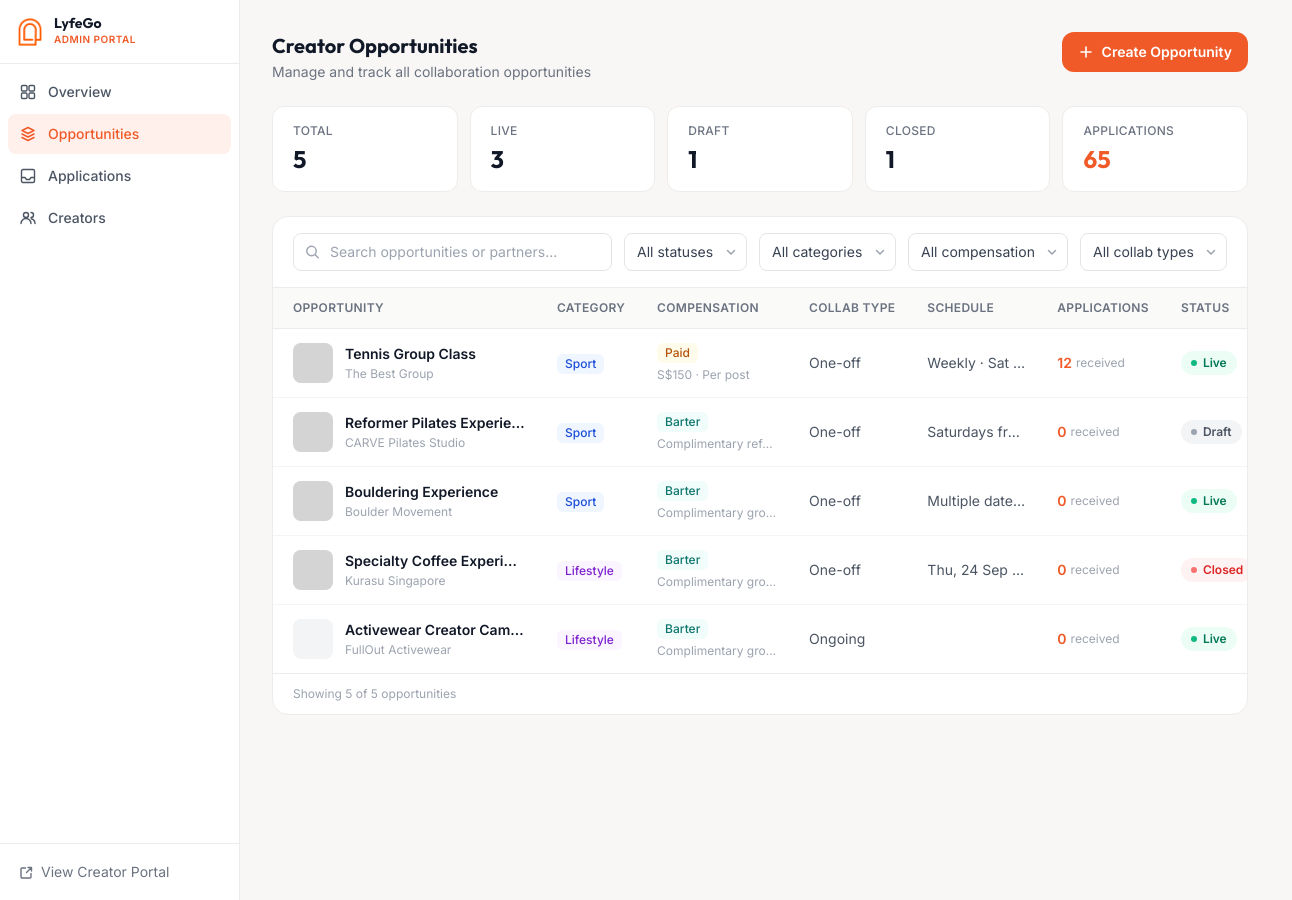
Test case: Admin Opportunities list › filters by status and compensation
Select "Draft" in the dropdown named "Status" at (686, 252), box top-left (624, 233), bottom-right (747, 271)
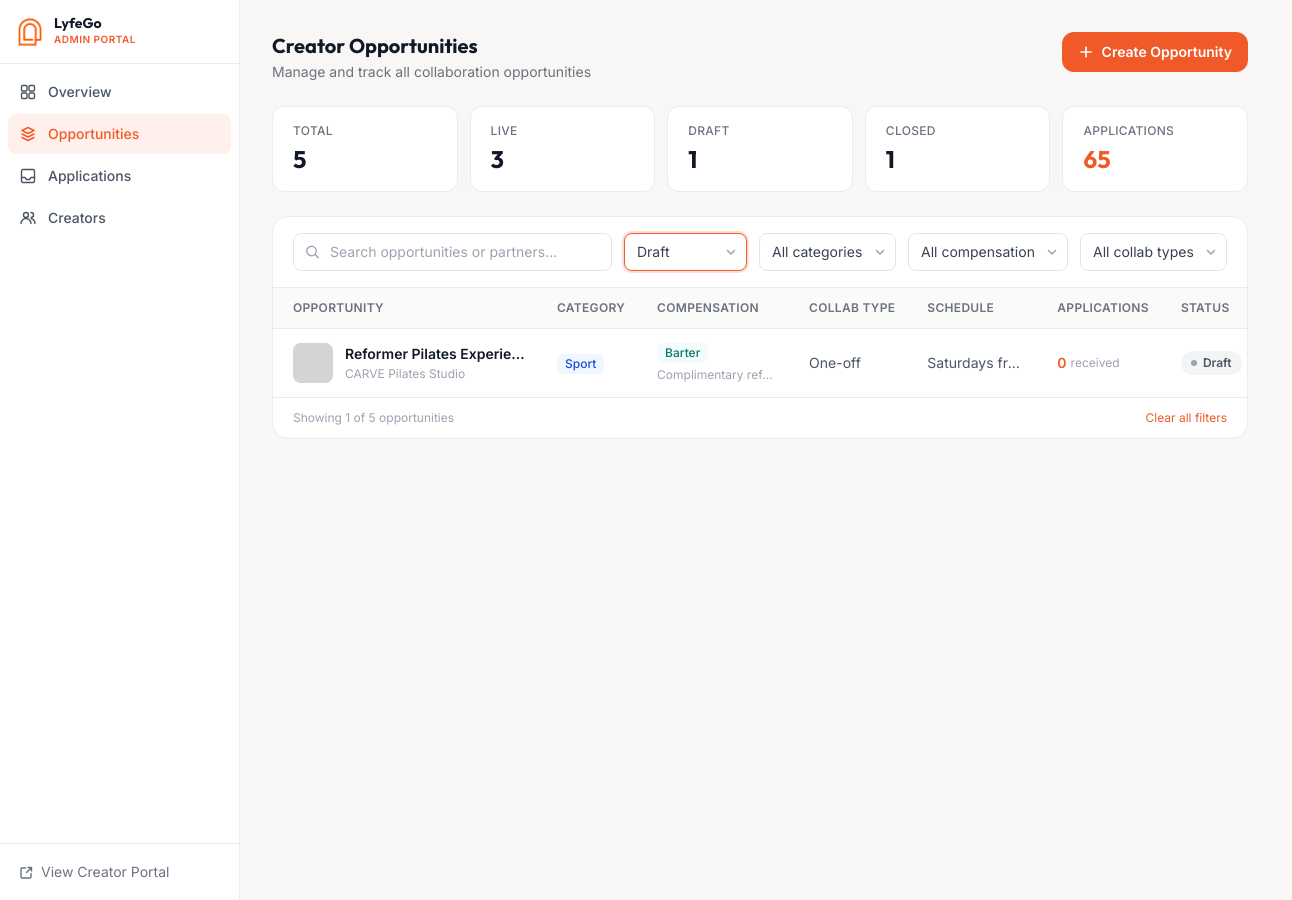
Expected: the text "Reformer Pilates Experience" is shown, top-left (345, 344), bottom-right (525, 364)
Expected: the text "Showing 1 of 5 opportunities" is shown, top-left (293, 410), bottom-right (454, 426)
Select "All statuses" in the dropdown named "Status" at (686, 252), box top-left (624, 233), bottom-right (747, 271)
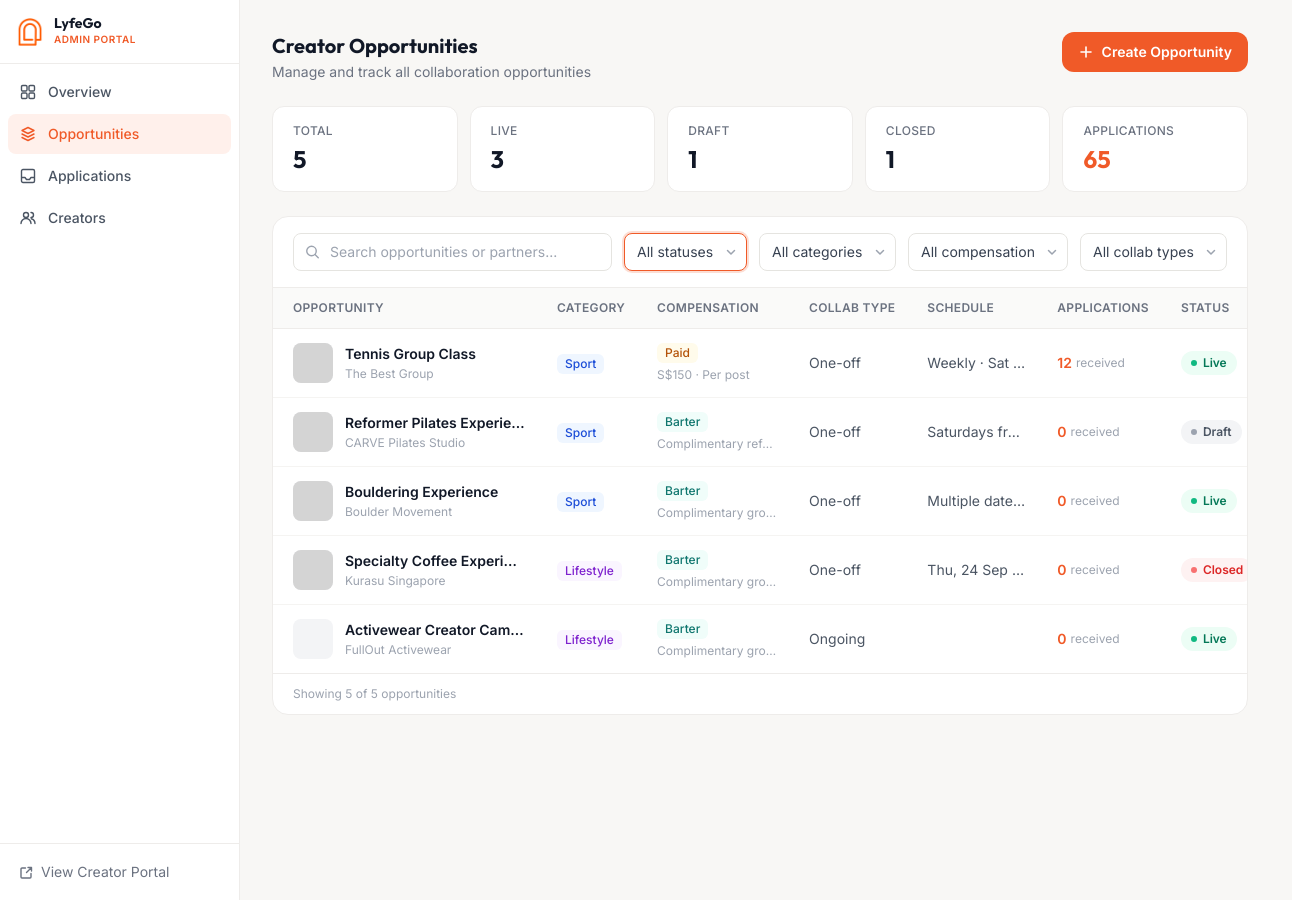
Select "Paid" in the dropdown named "Compensation" at (988, 252), box top-left (908, 233), bottom-right (1068, 271)
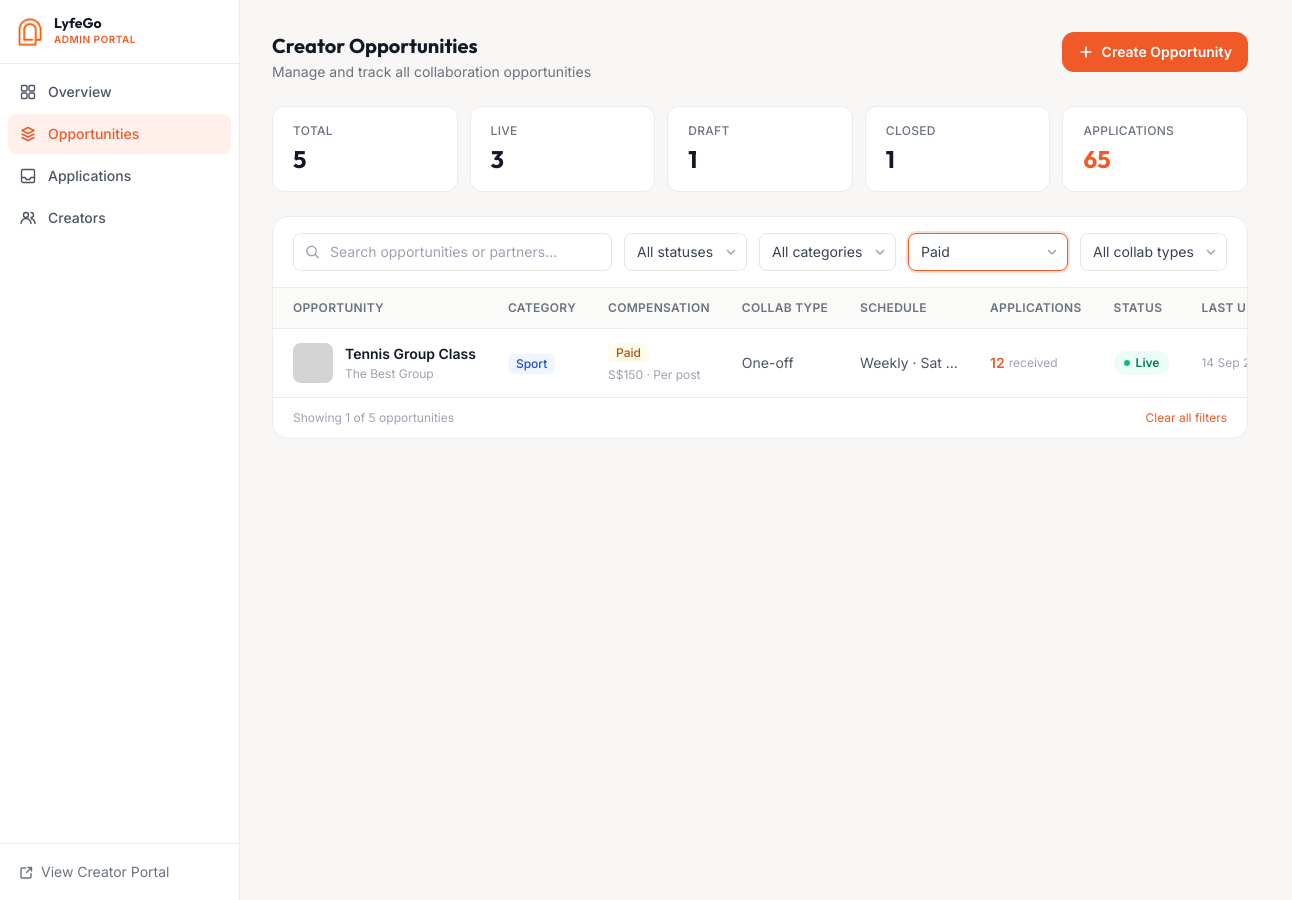
Expected: the text "Tennis Group Class" is shown, top-left (345, 344), bottom-right (476, 364)
Expected: the text "Showing 1 of 5 opportunities" is shown, top-left (293, 410), bottom-right (454, 426)
